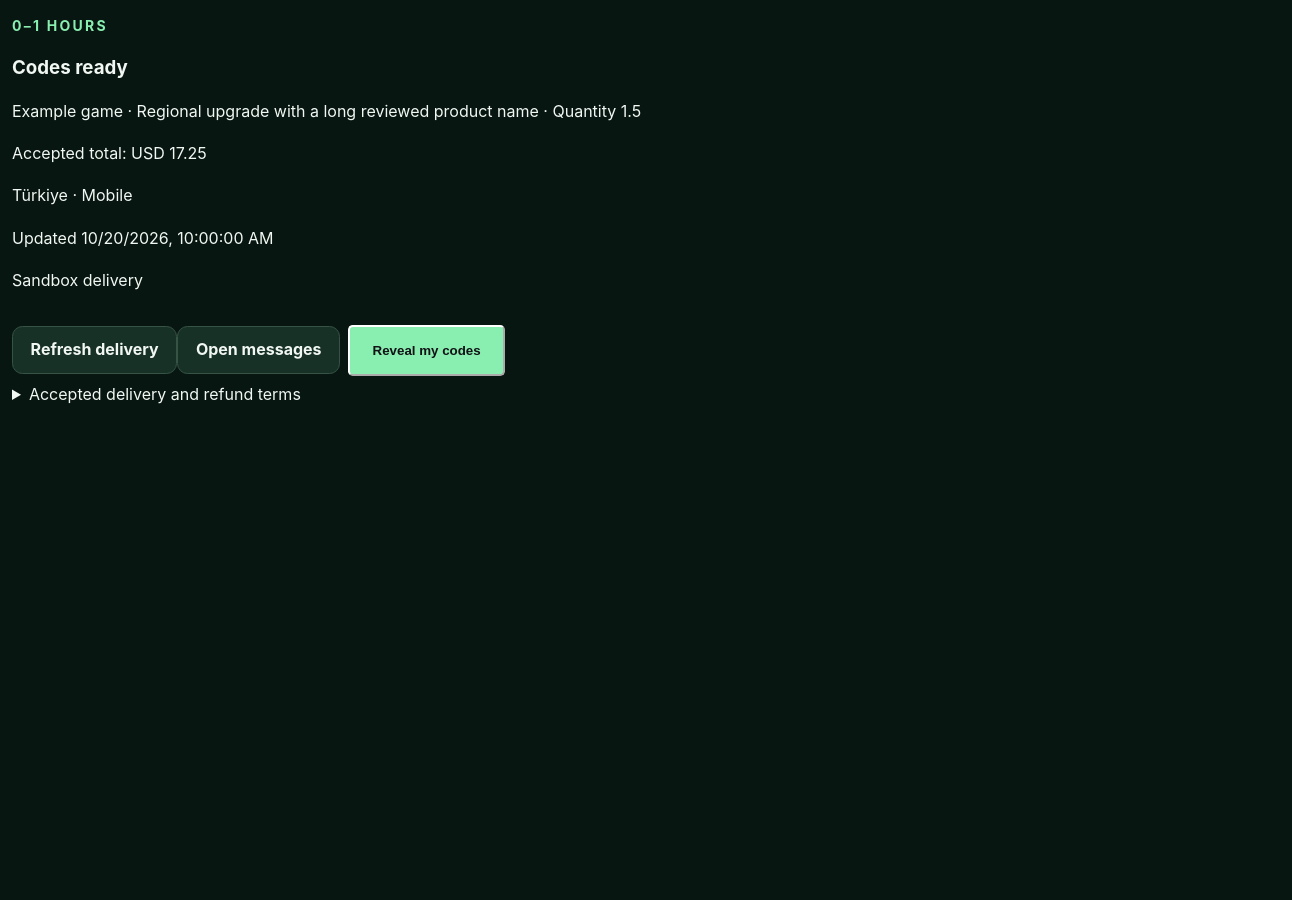
it: gives a manual copy fallback if the clipboard is unavailable
The image size is (1292, 900).
Click the button "Reveal my codes": (427, 351) x1=348 y1=326 x2=505 y2=376
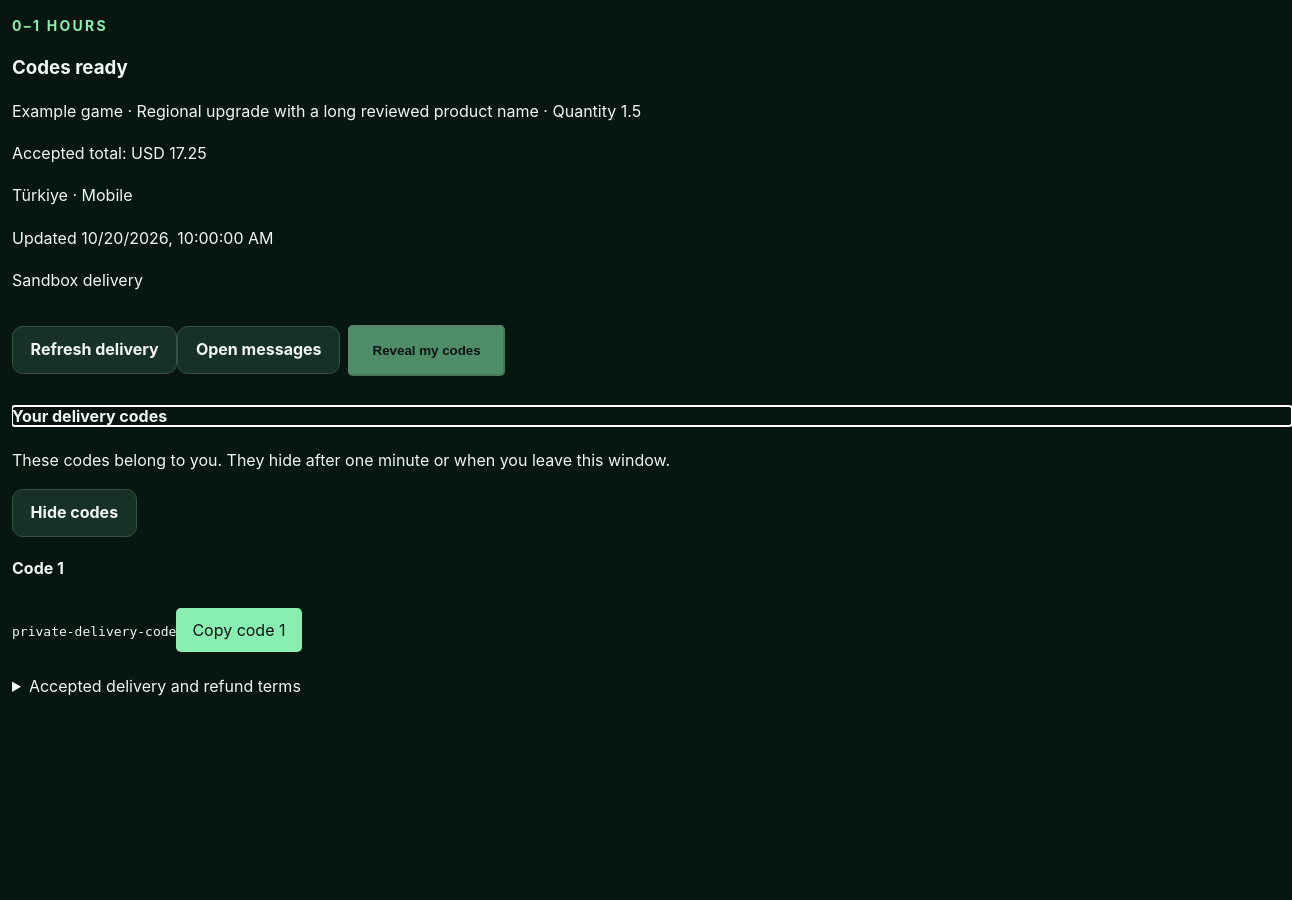
Result: the text "private-delivery-code" is shown at x1=12 y1=624 x2=176 y2=638
Click the button "Copy code 1": (239, 630) x1=176 y1=608 x2=302 y2=652
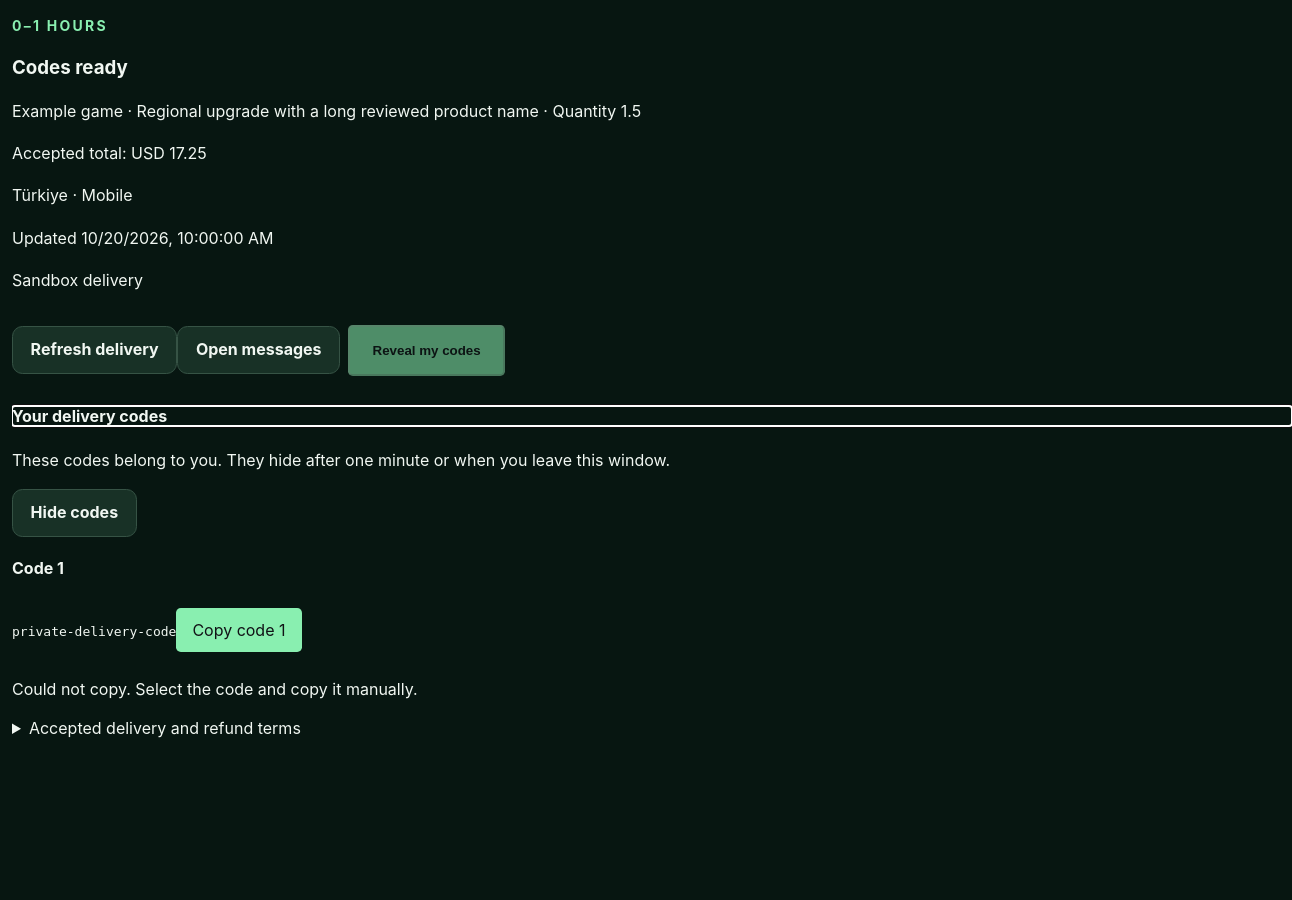
Result: the text "Could not copy. Select the code and copy it manually." is shown at x1=12 y1=678 x2=418 y2=698
